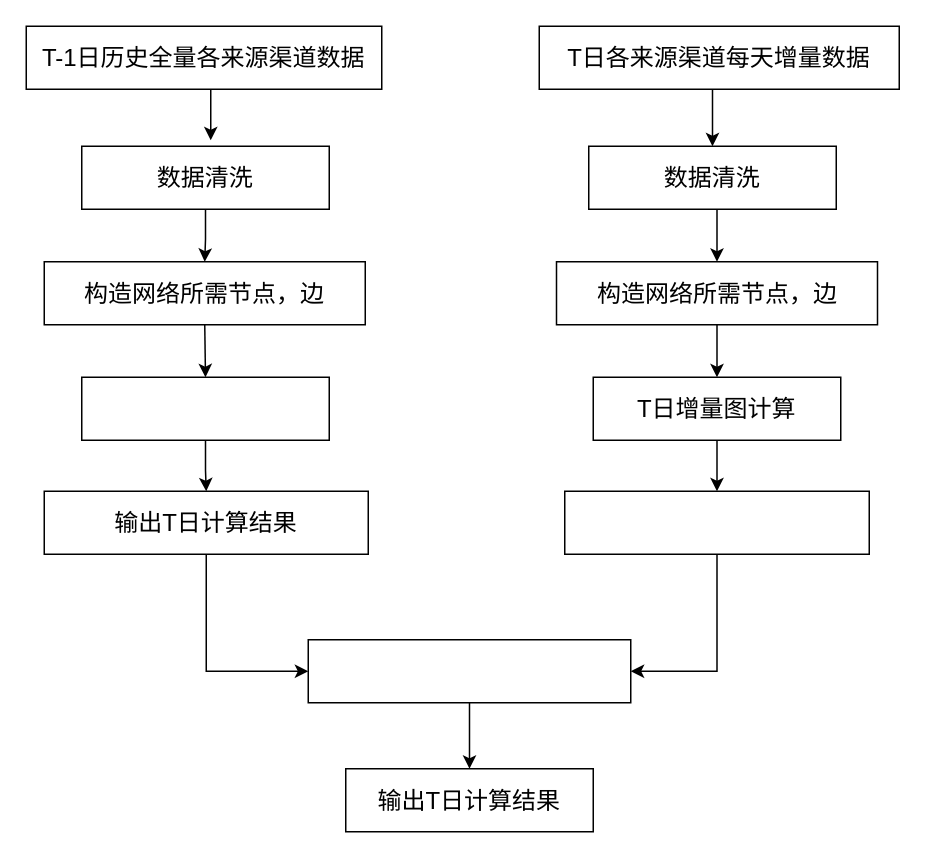
This 926x858 diagram has some shape labels left out. Here are the shapes that lost their labels. From the top down, the box of each, then its label:
(80, 376, 329, 440): T-1日全量图计算
(563, 490, 869, 554): 输出增量结果
(307, 638, 631, 703): 合并T-1日结果和增量结果
